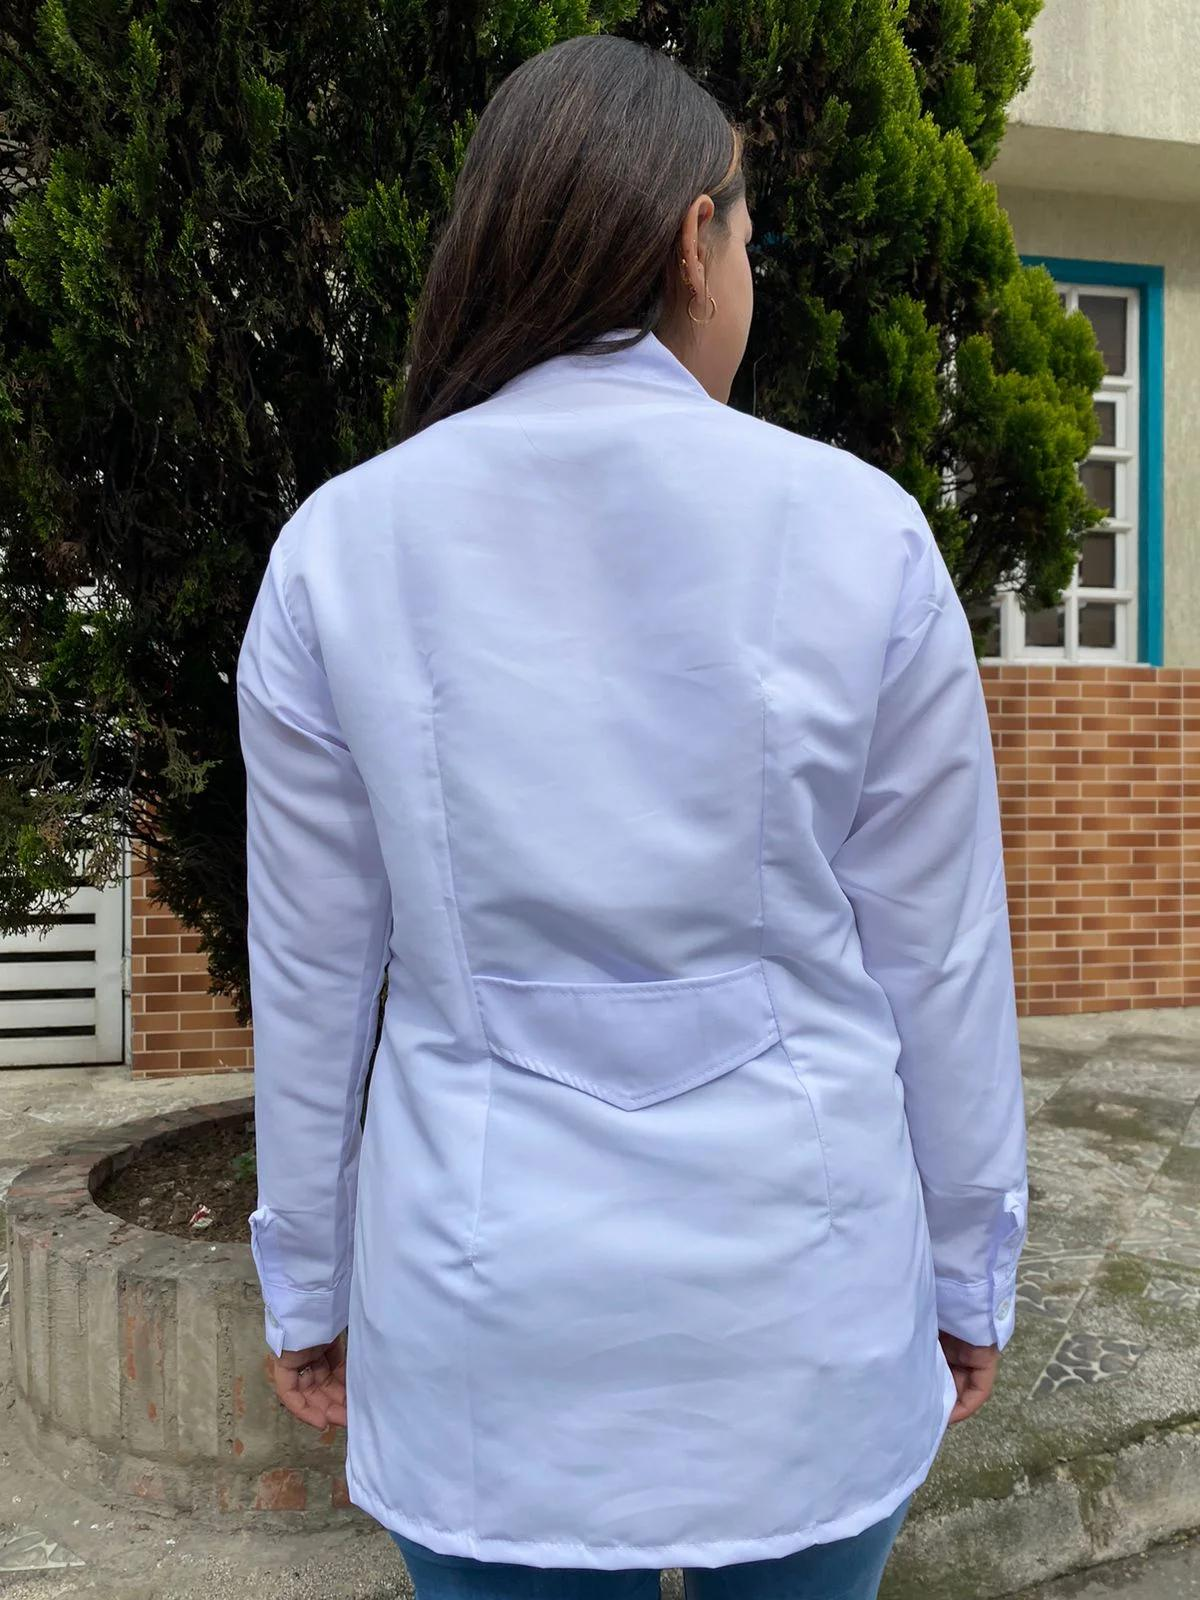Bata-Correcta: (213, 33, 1040, 1600)
